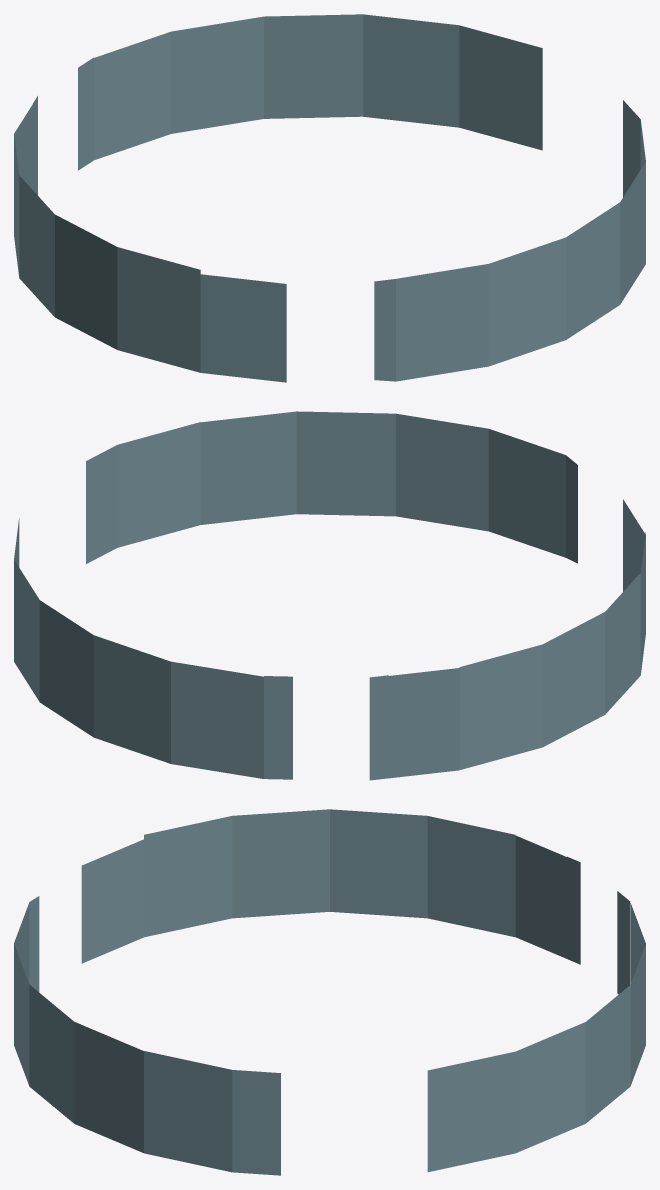
The model's file is 10-main_base_walls.fbx.
3 views of the same model, one above another, from view 1: azimuth 30°, elevation 25°; view 2: azimuth 150°, elevation 25°; view 3: azimuth 270°, elevation 25° (orthographic).
Parts seen in each view (by area): view 1: base_wall15, base_wall23, base_wall8, base_wall14, base_wall17, base_wall24, base_wall10, base_wall7, base_wall18, polySurface90, base_wall13, base_wall12 (+7 smaller); view 2: polySurface90, base_wall16, base_wall7, base_wall19, base_wall21, base_wall8, base_wall14, base_wall11, base_wall20, base_wall15, base_wall12, base_wall13 (+8 smaller); view 3: base_wall20, base_wall18, base_wall21, base_wall19, base_wall17, base_wall24, base_wall23, base_wall16, base_wall10, base_wall11, base_wall22, polySurface90 (+8 smaller).
Boxes of the visible parts, x1,y1,x2,y2 form: base_wall15: (264,14,363,118); base_wall23: (363,14,459,127); base_wall8: (396,264,488,381); base_wall14: (171,16,263,133); base_wall17: (117,247,200,372); base_wall24: (459,25,542,150); base_wall10: (200,274,286,382); base_wall7: (488,237,565,366); base_wall18: (55,214,117,349); polySurface90: (566,202,620,339); base_wall13: (132,31,170,146); base_wall12: (94,45,132,160); polySurface90: (296,411,395,516); base_wall16: (200,411,296,524); base_wall7: (396,413,488,531); base_wall19: (459,644,542,770); base_wall21: (117,422,200,547); base_wall8: (488,429,565,557); base_wall14: (93,635,170,763); base_wall11: (388,668,459,778); base_wall20: (542,612,605,746); base_wall15: (39,600,93,737); base_wall12: (217,669,263,778); base_wall13: (171,661,217,771); base_wall20: (330,809,427,918); base_wall18: (232,809,329,918); base_wall21: (144,1051,232,1172); base_wall19: (427,816,515,937); base_wall17: (144,816,232,937); base_wall24: (427,1051,515,1172); base_wall23: (515,1022,585,1152); base_wall16: (74,1022,143,1152); base_wall10: (81,839,144,963); base_wall11: (515,835,566,958); base_wall22: (232,1070,280,1175); polySurface90: (29,984,74,1123).
Size of the model in its own units: 4275 by 775 by 4328.
